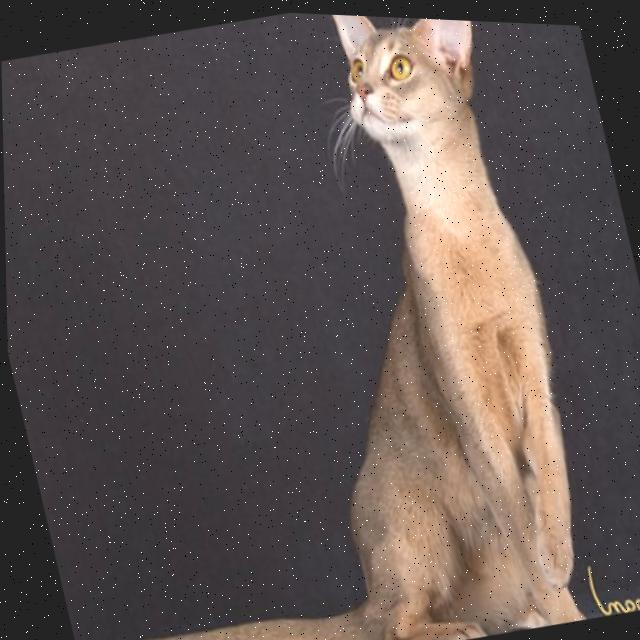Abyssinian: (0, 0, 617, 640)
